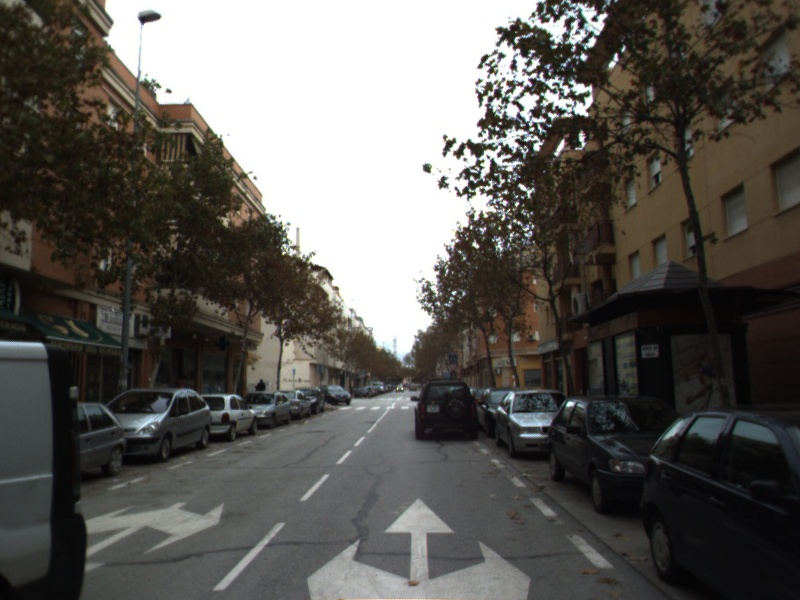STRAIGHT_LEFT_RIGHT: (303, 495, 535, 600)
